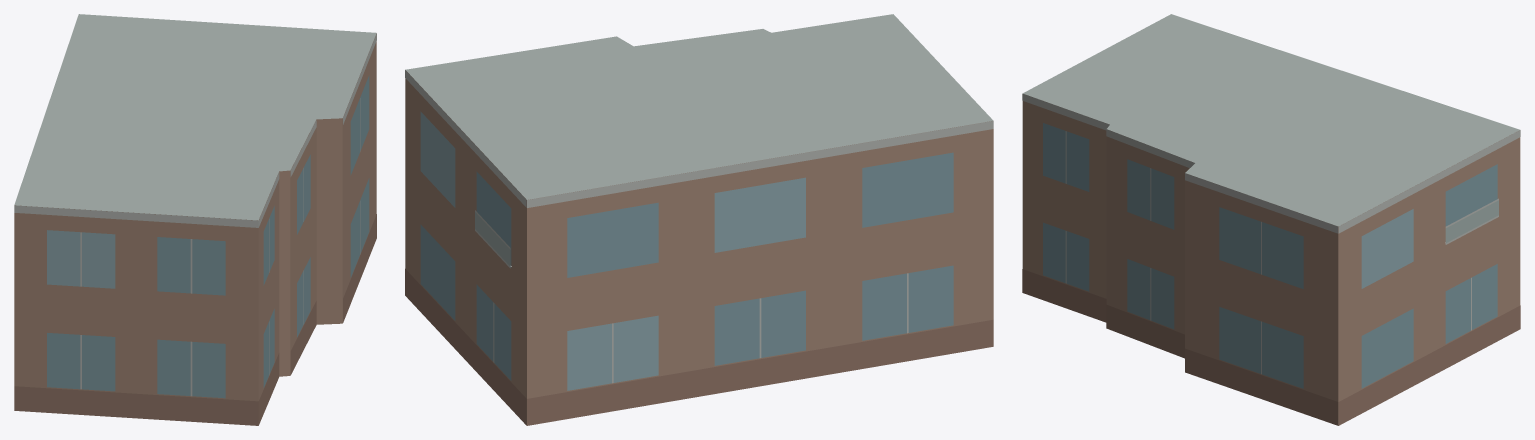
Rendered from survey-upis-32968465.glb.
3 renders of one model, left to right at view 1: azimuth 30°, elevation 25°; view 2: azimuth 150°, elevation 25°; view 3: azimuth 270°, elevation 25°, orthographic. The views are drawn at different scales.
Parts seen in each view (by area): view 1: survey-upis-32968465.tmp; view 2: survey-upis-32968465.tmp; view 3: survey-upis-32968465.tmp.
Boxes of the visible parts, bbox=[...] form: survey-upis-32968465.tmp: bbox=[14, 14, 376, 425]; survey-upis-32968465.tmp: bbox=[405, 14, 993, 425]; survey-upis-32968465.tmp: bbox=[1022, 14, 1520, 425].
Size of the model in its own units: 15.33 by 6.7 by 15.18.
